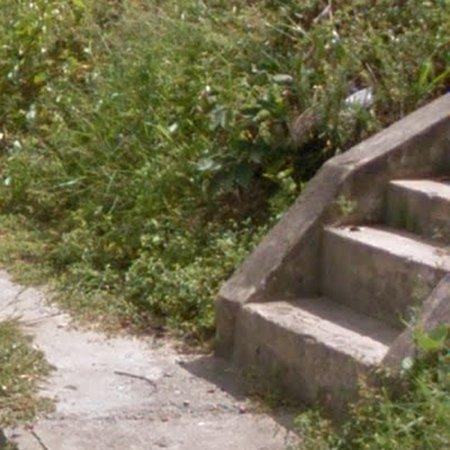stairs: (217, 93, 450, 410)
